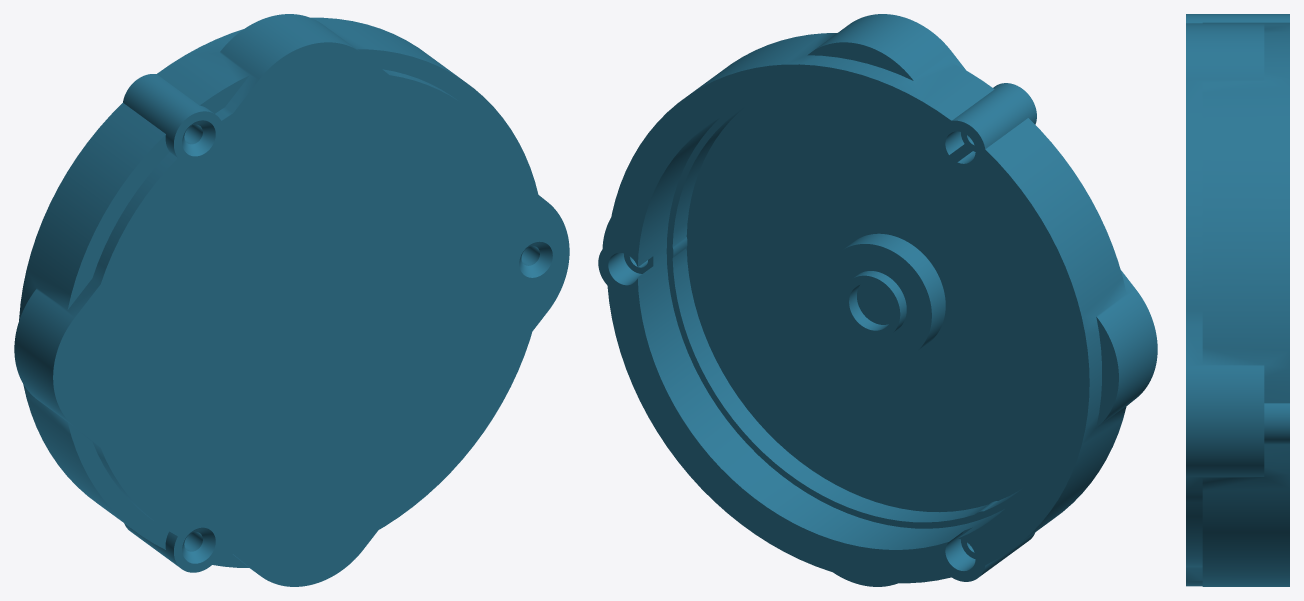
The model's file is Cap_rounded_square.obj.
3 views of the same model, side by side, from view 1: azimuth 30°, elevation 25°; view 2: azimuth 150°, elevation 25°; view 3: azimuth 270°, elevation 25° (orthographic).
Visible parts, largest first — view 1: Cap_rounded_square; view 2: Cap_rounded_square; view 3: Cap_rounded_square.
Boxes of the visible parts, box(x1,y1,x2,y2) form: Cap_rounded_square: box(14, 14, 569, 586); Cap_rounded_square: box(598, 14, 1157, 586); Cap_rounded_square: box(1186, 14, 1289, 586).
Bounding box in the file's own units: 61.6 × 61.6 × 10.6.
